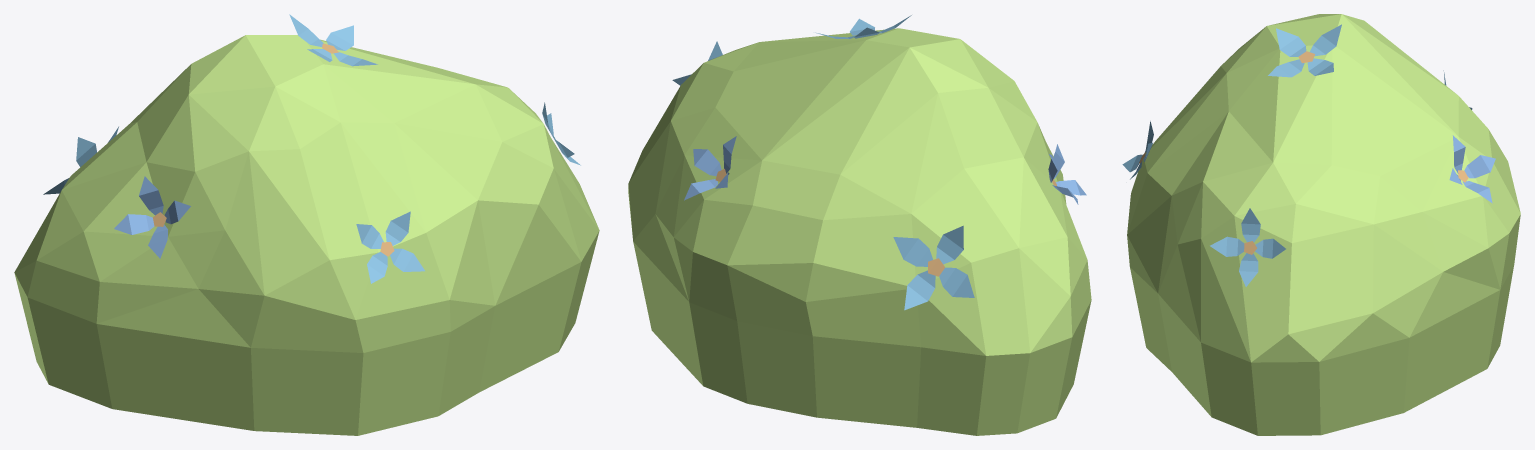
Rendered from FlowerBush_b_l_02.fbx.
3 renders of one model, left to right at view 1: azimuth 30°, elevation 25°; view 2: azimuth 150°, elevation 25°; view 3: azimuth 270°, elevation 25°, orthographic. The views are drawn at different scales.
Parts seen in each view (by area): view 1: FlowerBush_b_l_02; view 2: FlowerBush_b_l_02; view 3: FlowerBush_b_l_02.
Part boxes in pixels (x1=…): FlowerBush_b_l_02: x1=14, y1=14, x2=599, y2=435; FlowerBush_b_l_02: x1=628, y1=15, x2=1091, y2=435; FlowerBush_b_l_02: x1=1122, y1=14, x2=1520, y2=435.
Bounding box in the file's own units: 3.85 × 2.47 × 2.94.
